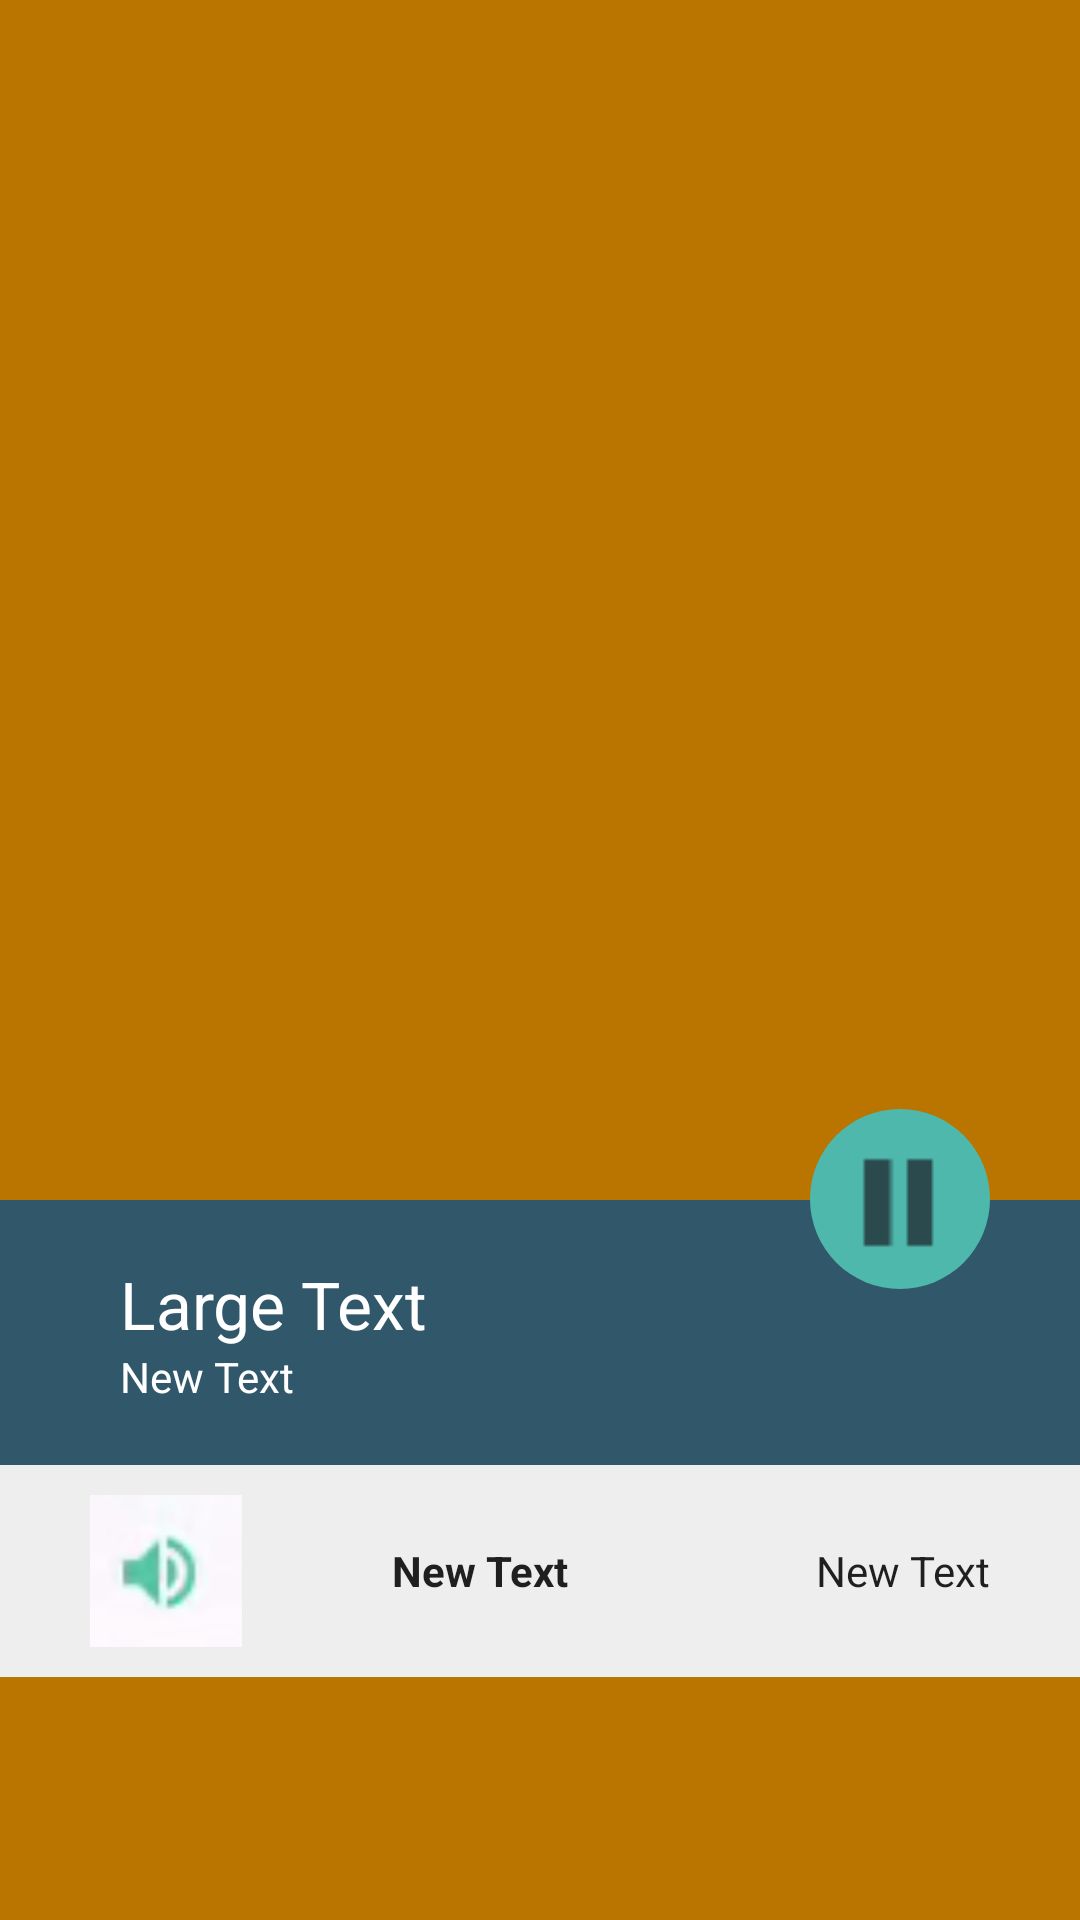

Icon click points for this 1080x1920 phone screenshot, format (x,y):
pause: (900,1199)
volume: (159,1572)
